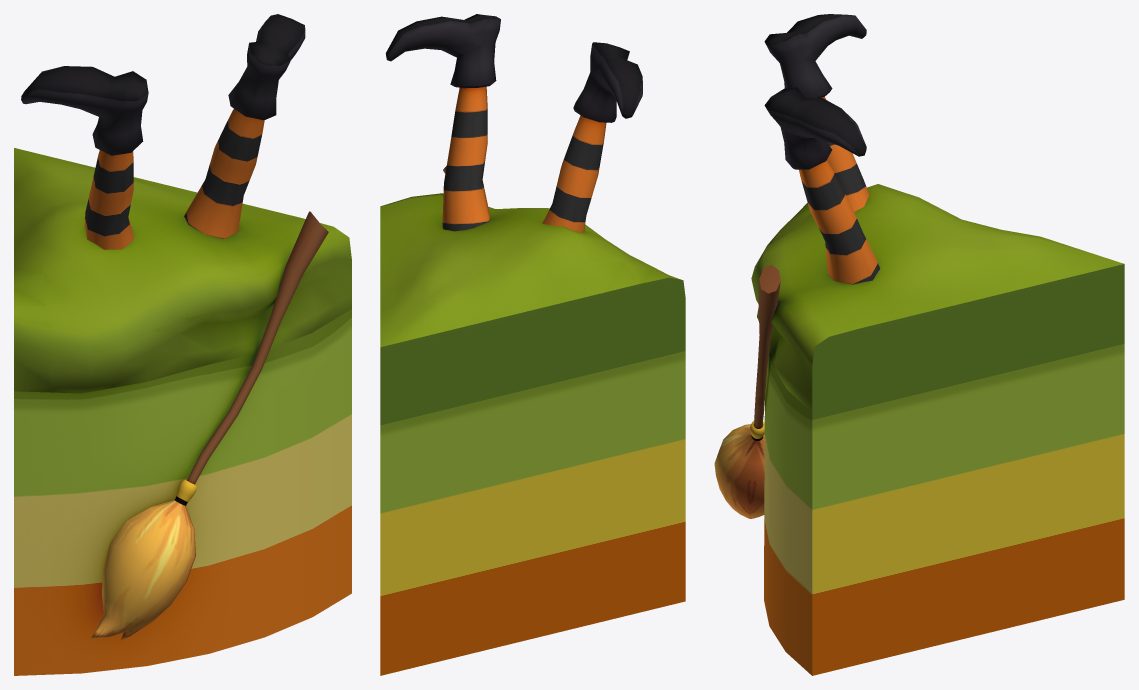
Rendered from cake_79.FBX.
3 renders of one model, left to right at view 1: azimuth 30°, elevation 25°; view 2: azimuth 150°, elevation 25°; view 3: azimuth 270°, elevation 25°, orthographic. The views are drawn at different scales.
Parts seen in each view (by area): view 1: cake_79; view 2: cake_79; view 3: cake_79.
Boxes of the visible parts, bbox=[...] form: cake_79: bbox=[14, 14, 351, 675]; cake_79: bbox=[380, 14, 685, 675]; cake_79: bbox=[714, 14, 1124, 675].
Bounding box in the file's own units: 5.09 × 8.42 × 5.79.
